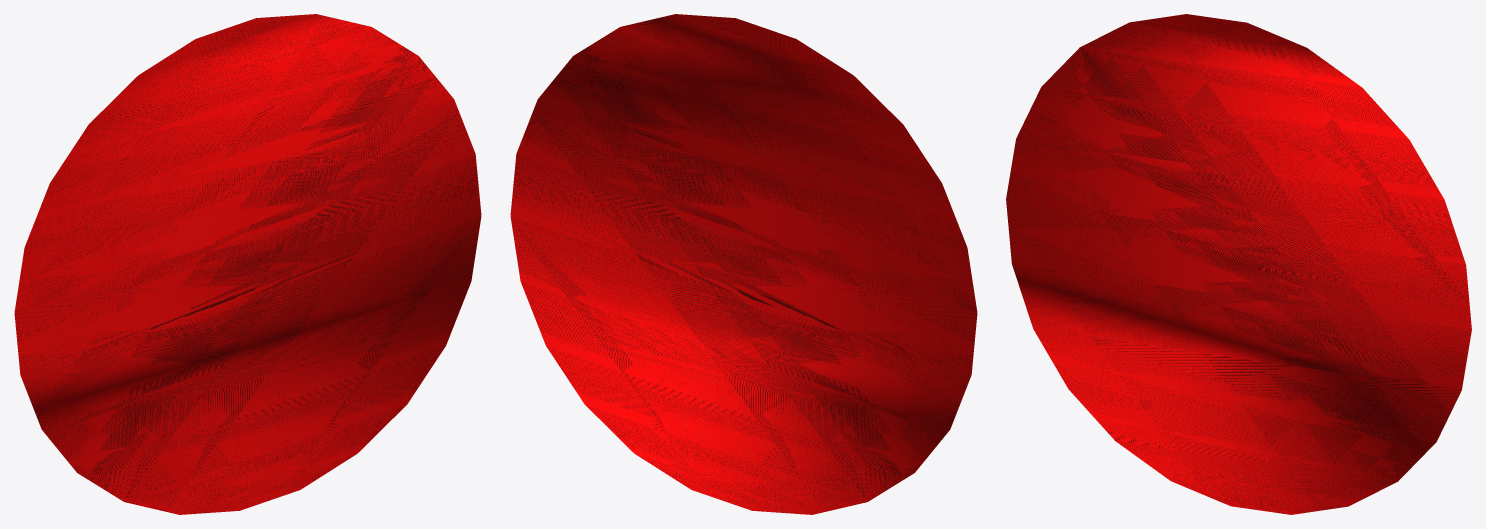
The model's file is original-116.obj.
3 views of the same model, side by side, from view 1: azimuth 30°, elevation 25°; view 2: azimuth 150°, elevation 25°; view 3: azimuth 330°, elevation 25° (orthographic).
Parts seen in each view (by area): view 1: mesh50/mesh50-geometry/material_4/component_0#mesh50-geometry; view 2: mesh50/mesh50-geometry/material_4/component_0#mesh50-geometry; view 3: mesh50/mesh50-geometry/material_4/component_0#mesh50-geometry.
Boxes of the visible parts, x1=… form: mesh50/mesh50-geometry/material_4/component_0#mesh50-geometry: x1=14, y1=14, x2=481, y2=514; mesh50/mesh50-geometry/material_4/component_0#mesh50-geometry: x1=510, y1=14, x2=977, y2=514; mesh50/mesh50-geometry/material_4/component_0#mesh50-geometry: x1=1006, y1=14, x2=1471, y2=514.
Bounding box in the file's own units: 0.648 × 0.648 × 0.
